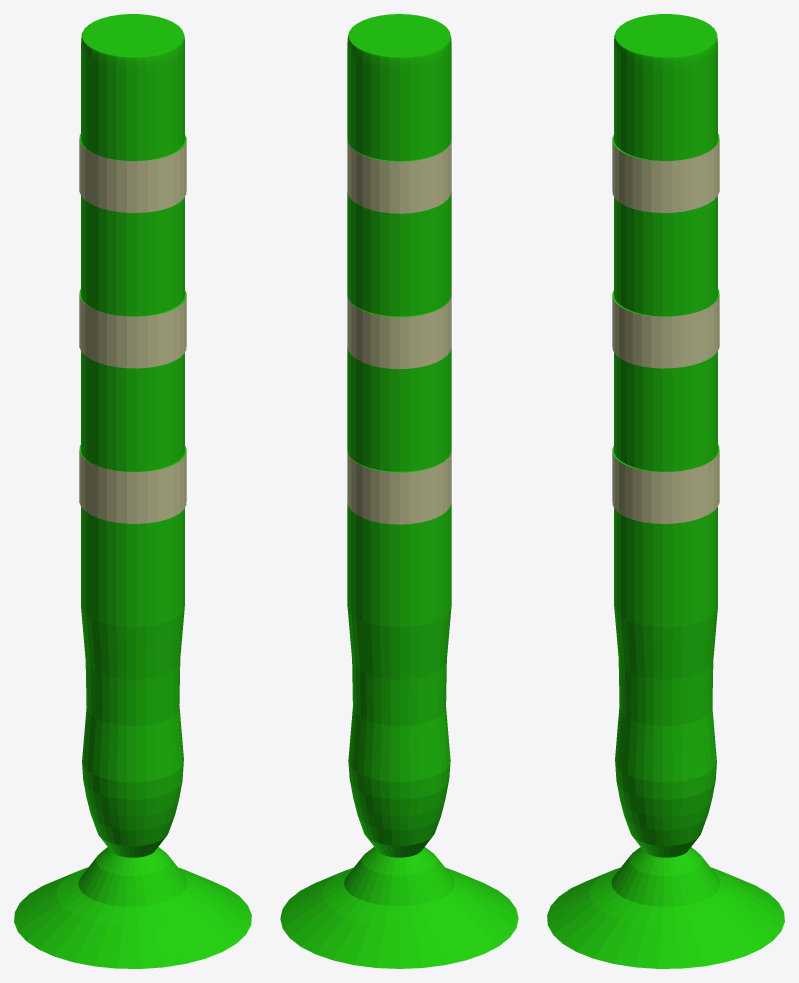
Rendered from Poste .obj.
3 renders of one model, left to right at view 1: azimuth 30°, elevation 25°; view 2: azimuth 150°, elevation 25°; view 3: azimuth 270°, elevation 25°, orthographic.
Visible parts, largest first — view 1: Cylinder; view 2: Cylinder; view 3: Cylinder.
Boxes of the visible parts, box(x1,y1,x2,y2) form: Cylinder: box(14, 14, 251, 968); Cylinder: box(280, 14, 518, 968); Cylinder: box(547, 14, 784, 968).
Bounding box in the file's own units: 1.82 × 7.44 × 1.82.
